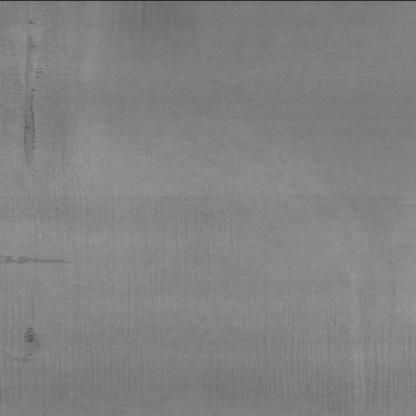inclusion: (13, 15, 50, 163), (17, 324, 41, 348)
water_spot: (5, 251, 72, 266)
